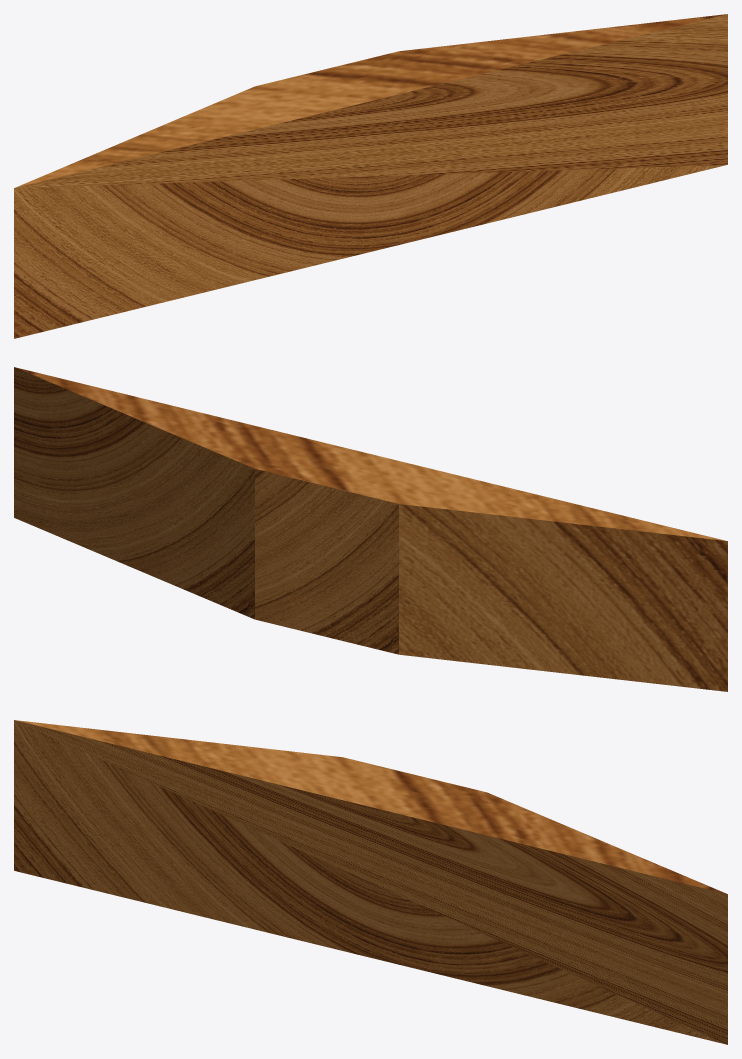
The model's file is slope15.dae.
The picture shows the model from 3 angles, top to bottom: view 1: azimuth 30°, elevation 25°; view 2: azimuth 150°, elevation 25°; view 3: azimuth 330°, elevation 25°; orthographic projection.
Parts seen in each view (by area): view 1: 3MF Object.001; view 2: 3MF Object.001; view 3: 3MF Object.001.
Part boxes in pixels (x1=…): 3MF Object.001: x1=14, y1=14, x2=727, y2=338; 3MF Object.001: x1=14, y1=367, x2=727, y2=691; 3MF Object.001: x1=14, y1=720, x2=727, y2=1044.
Size of the model in its own units: 4.96 by 0.53 by 1.
